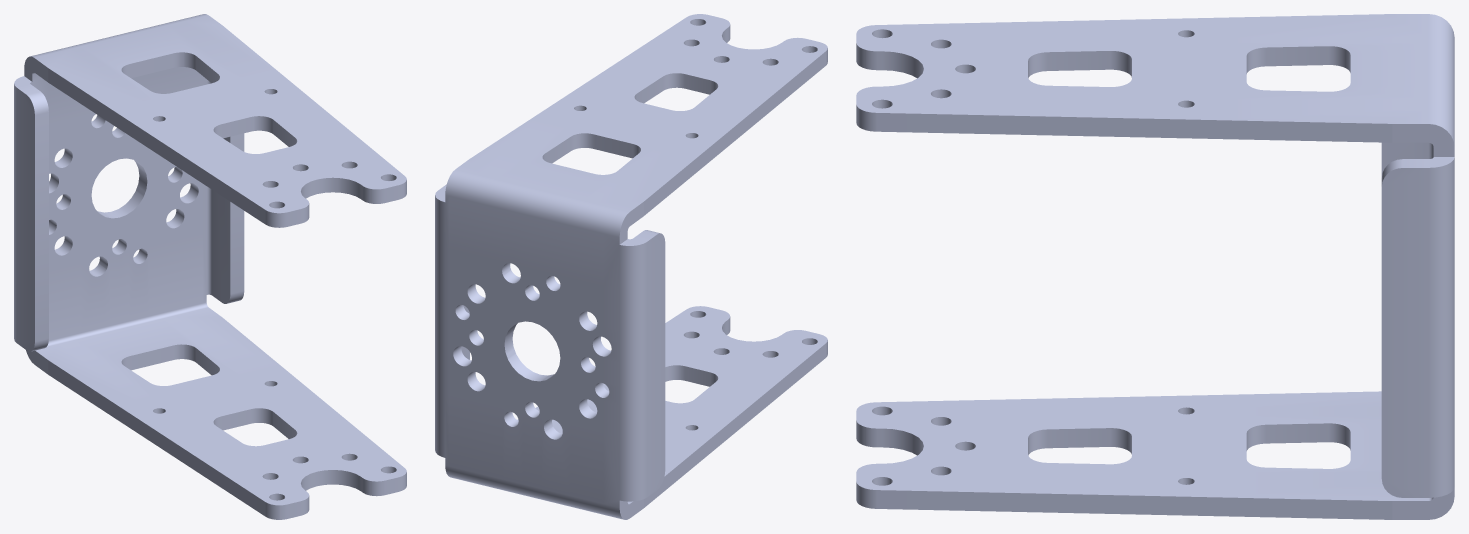
File: arm_link2.dae
The picture shows the model from 3 angles, left to right: view 1: azimuth 30°, elevation 25°; view 2: azimuth 150°, elevation 25°; view 3: azimuth 270°, elevation 25°; orthographic projection. The views are drawn at different scales.
Parts seen in each view (by area): view 1: node0; view 2: node0; view 3: node0.
Part boxes in pixels (left/top/right/bottom): node0: left=14, top=14, right=406, bottom=519; node0: left=435, top=14, right=827, bottom=519; node0: left=856, top=14, right=1454, bottom=519.
Size of the model in its own units: 0.03 by 0.042 by 0.0575.
